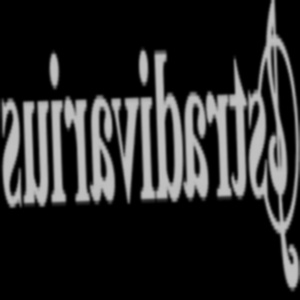stradivarius: (297, 0, 300, 3)
